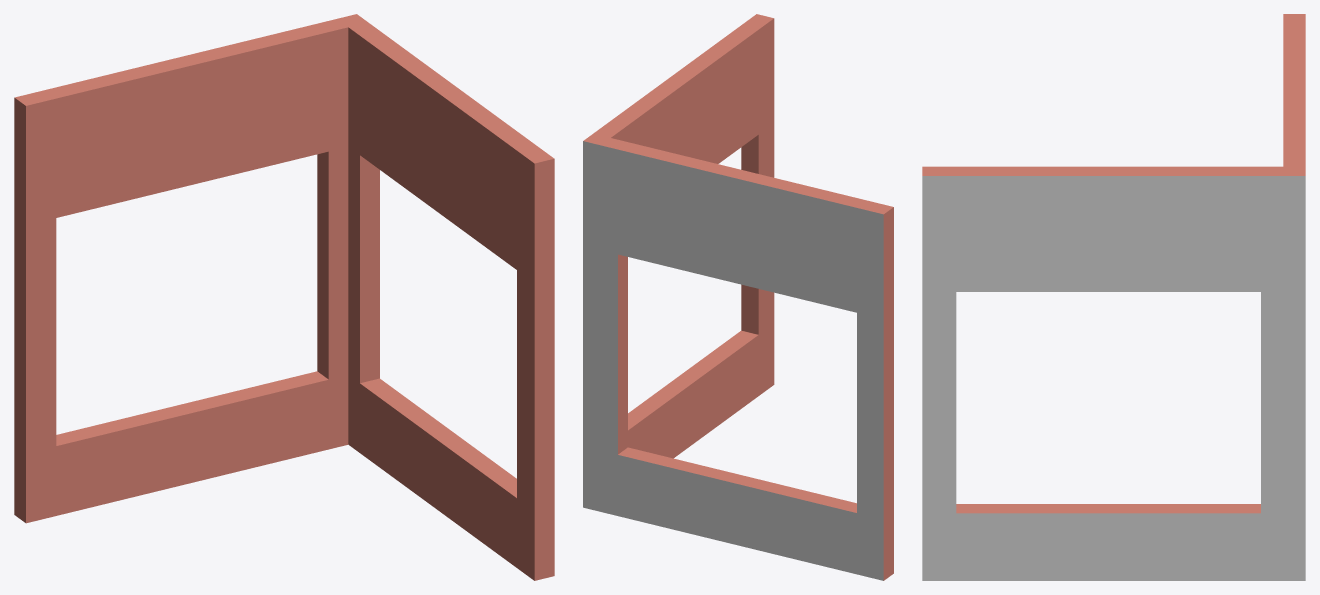
The model's file is Wall1_C6_15.fbx.
The picture shows the model from 3 angles, left to right: view 1: azimuth 30°, elevation 25°; view 2: azimuth 150°, elevation 25°; view 3: azimuth 270°, elevation 25°; orthographic projection. The views are drawn at different scales.
Parts seen in each view (by area): view 1: Wall1_C6_15; view 2: Wall1_C6_15; view 3: Wall1_C6_15.
Boxes of the visible parts, left/top/right/bottom form: Wall1_C6_15: left=14, top=14, right=554, bottom=580; Wall1_C6_15: left=583, top=14, right=893, bottom=580; Wall1_C6_15: left=922, top=14, right=1305, bottom=580.
Size of the model in its own units: 258 by 300 by 258.
